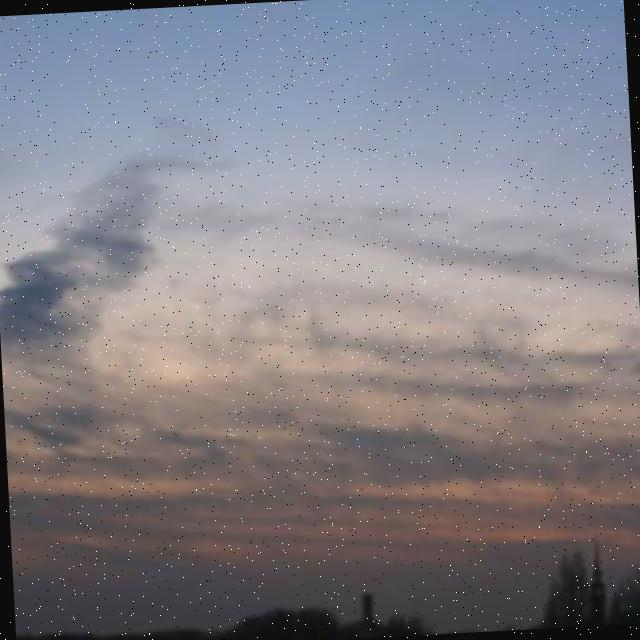Ct: (1, 1, 640, 528)
